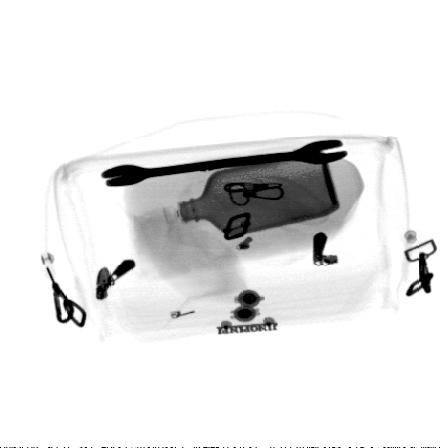Wrench: (102, 139, 350, 187)
